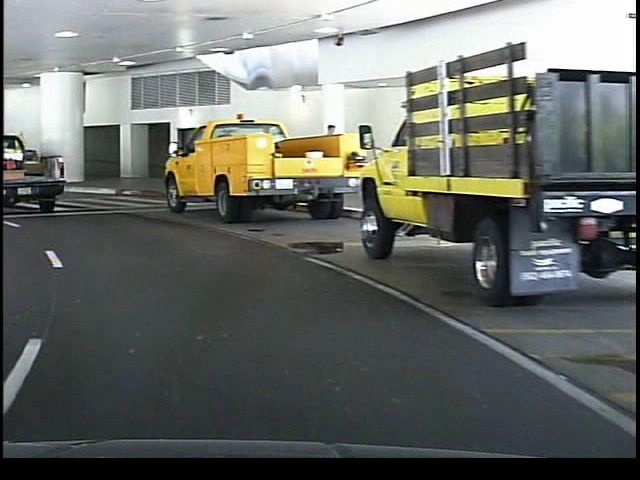person: (315, 119, 341, 200)
